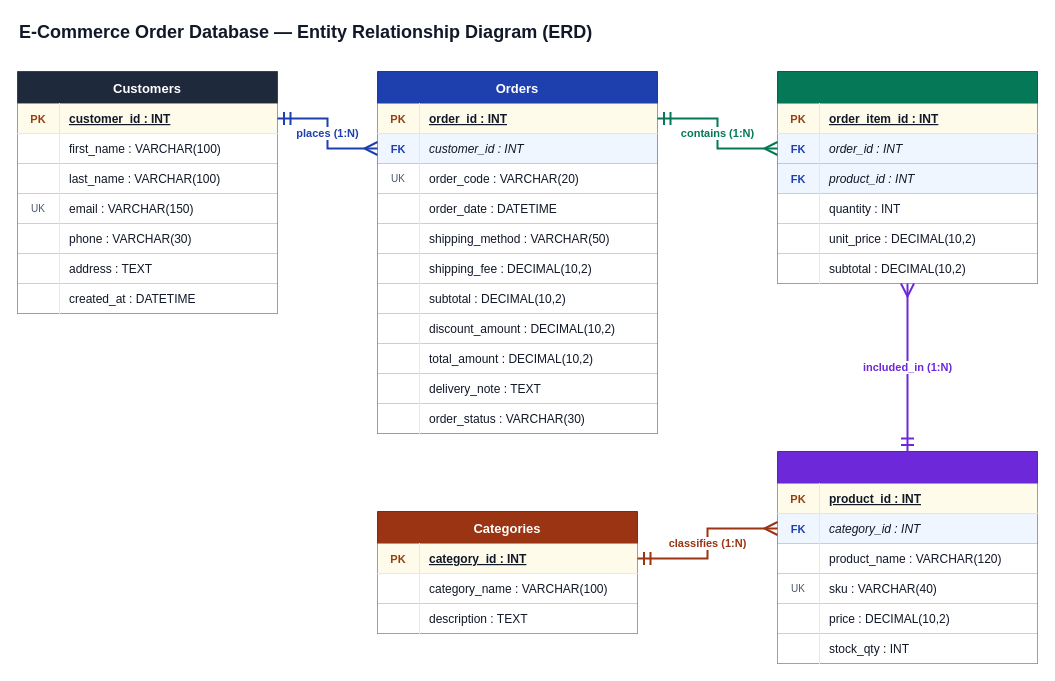
Some shapes in this 1055 by 681 pixel diagram are drawn without their labels. Each missing label, with the box of its shape:
Order_Items: (776, 70, 1038, 284)
Products: (776, 450, 1038, 664)
